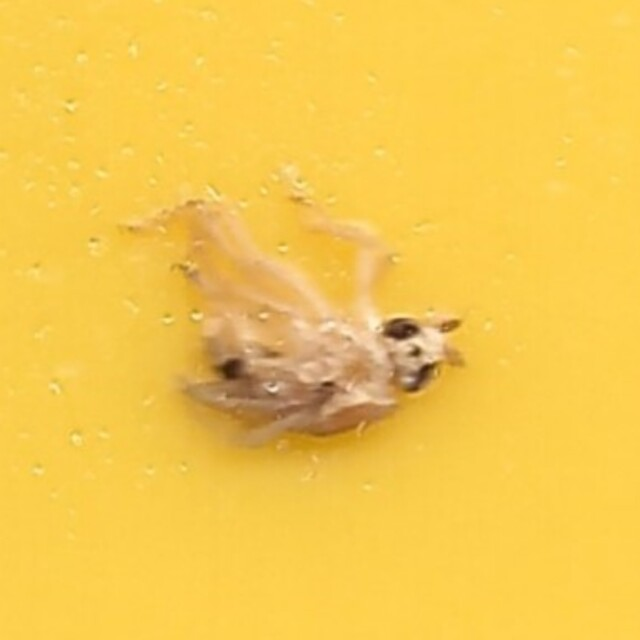Brachycera: (167, 180, 473, 460)
